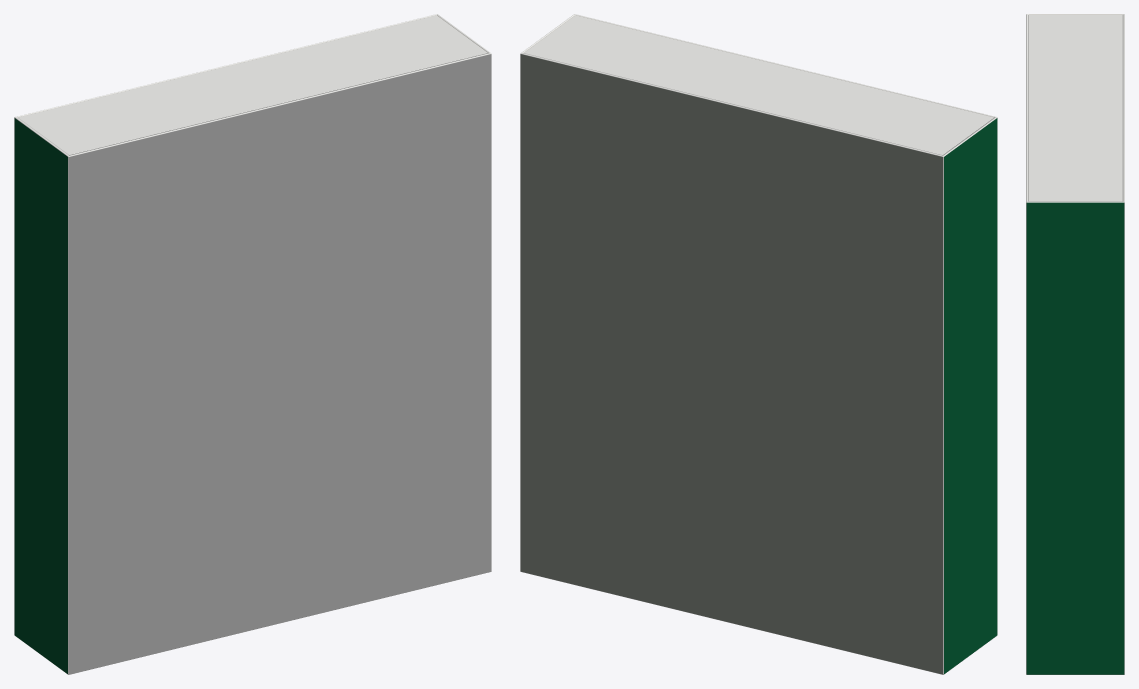
The picture shows the model from 3 angles, left to right: view 1: azimuth 30°, elevation 25°; view 2: azimuth 150°, elevation 25°; view 3: azimuth 270°, elevation 25°; orthographic projection. The views are drawn at different scales.
Visible parts, largest first — view 1: artwork_front, Carton sleeve, End closure flap.001; view 2: Carton sleeve, End closure flap.001; view 3: Carton sleeve, End closure flap.001.
Boxes of the visible parts, x1,y1,x2,y2 form: artwork_front: (69,54,491,674); Carton sleeve: (14,14,491,674); End closure flap.001: (18,15,487,154); Carton sleeve: (520,14,997,674); End closure flap.001: (524,15,993,154); Carton sleeve: (1026,14,1124,674); End closure flap.001: (1028,15,1122,201).
Bounding box in the file's own units: 88 × 103 × 19.52.
Materials: 5 (3 with a texture image).
